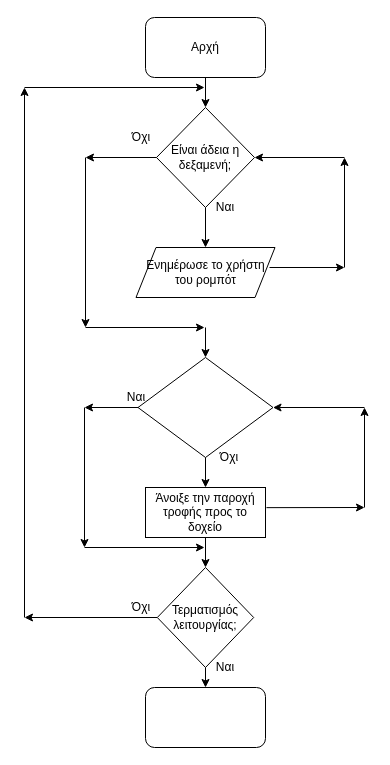
This 390x765 diagram has some shape labels left out. The box of each missing label's shape, as (x1, y1, x2, y2) in pixels:
Τέλος: (144, 686, 266, 748)
Υπάρχει η προβλεπόμενη ποσότητα τροφής στο δοχείο;: (137, 356, 273, 458)
